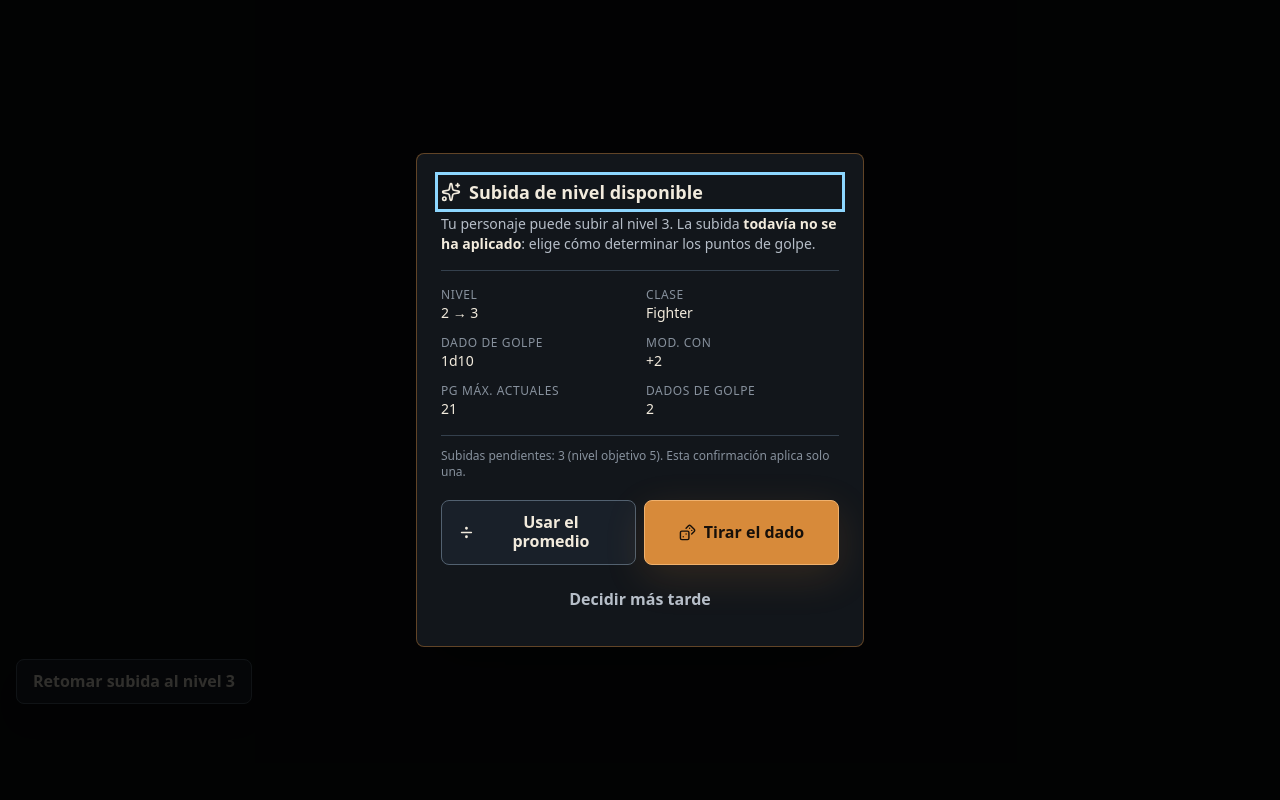
Test: J. LevelUpConfirmation — accessible postponement › keeps a postponement when the backend announces the same pending level-up on the next turn
What coordinates should you click on to do the following:
click the button "Decidir más tarde"
I would click on:
 (640, 599)
Its box is [441,577,839,622].
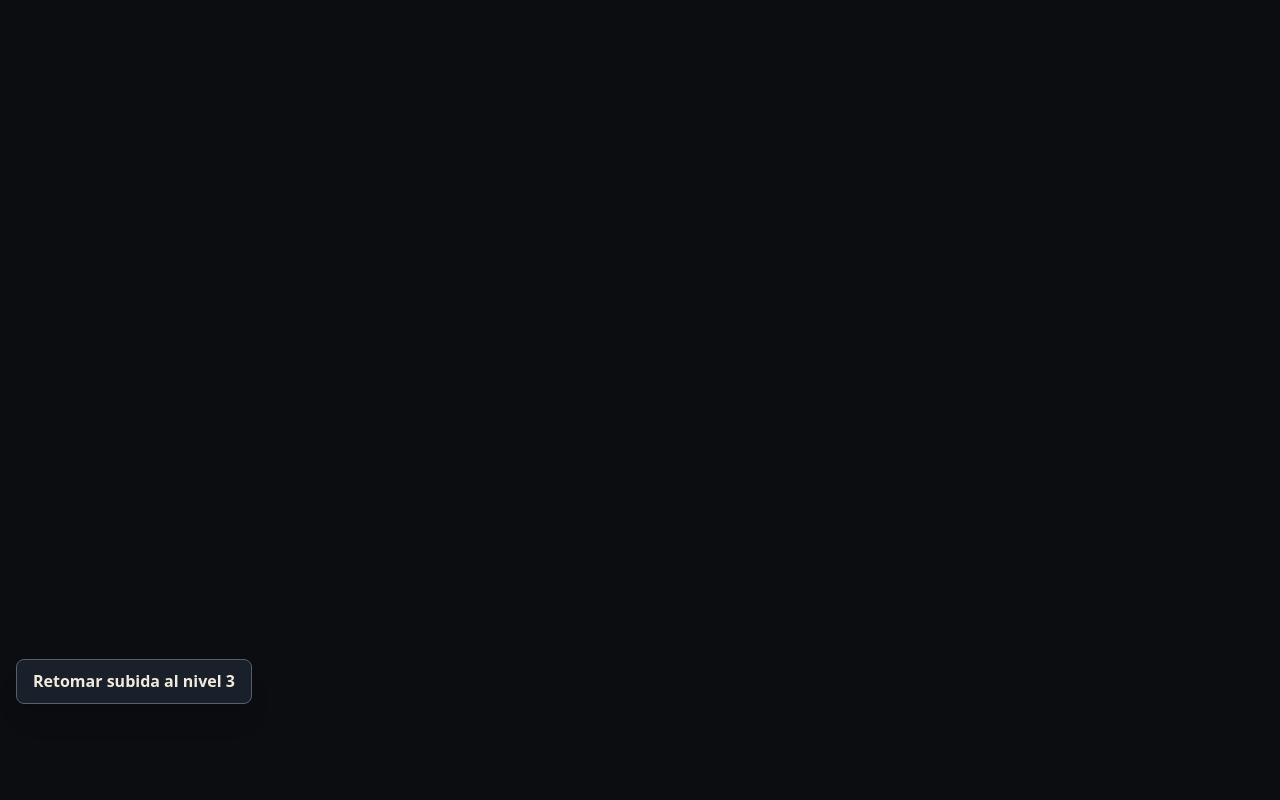
Expected: the button "Retomar subida al nivel 3" is shown, [16,659,252,704]
Expected: the dialog is gone
